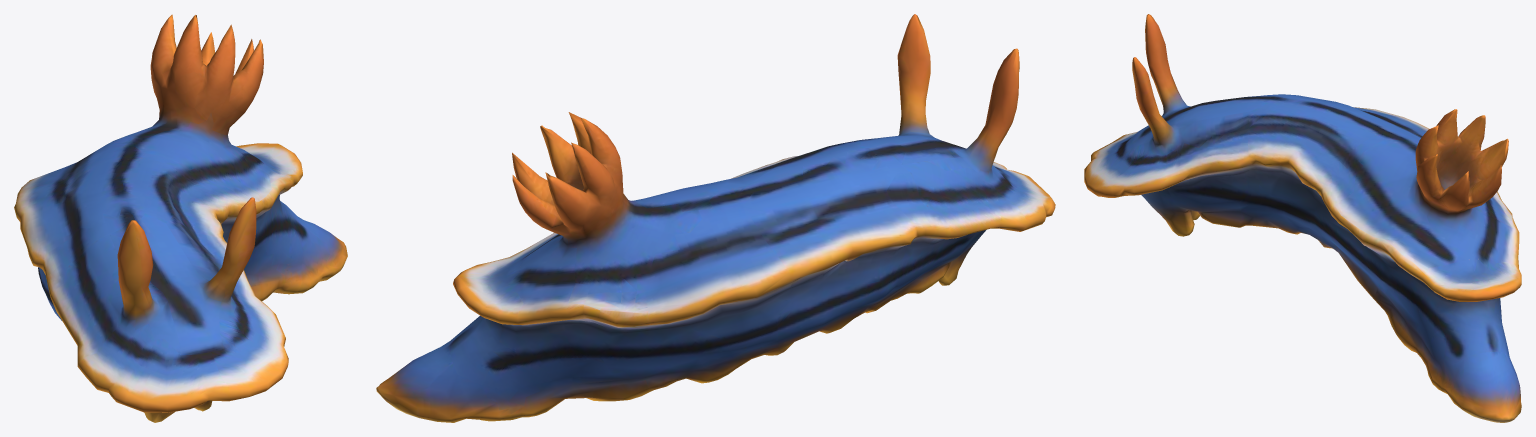
File: naaktslak.glb
3 views of the same model, side by side, from view 1: azimuth 30°, elevation 25°; view 2: azimuth 150°, elevation 25°; view 3: azimuth 270°, elevation 25° (orthographic). The views are drawn at different scales.
Visible parts, largest first — view 1: tripo_node_d0fea510-16bf-4e91-9a38-2e6f957594c2; view 2: tripo_node_d0fea510-16bf-4e91-9a38-2e6f957594c2; view 3: tripo_node_d0fea510-16bf-4e91-9a38-2e6f957594c2.
Part boxes in pixels (x1,y1,x2,y2): tripo_node_d0fea510-16bf-4e91-9a38-2e6f957594c2: (14, 14, 347, 422); tripo_node_d0fea510-16bf-4e91-9a38-2e6f957594c2: (376, 14, 1055, 422); tripo_node_d0fea510-16bf-4e91-9a38-2e6f957594c2: (1084, 14, 1521, 422).
Bounding box in the file's own units: 0.1557 × 0.1 × 0.1563.
1 material, 1 textured.
